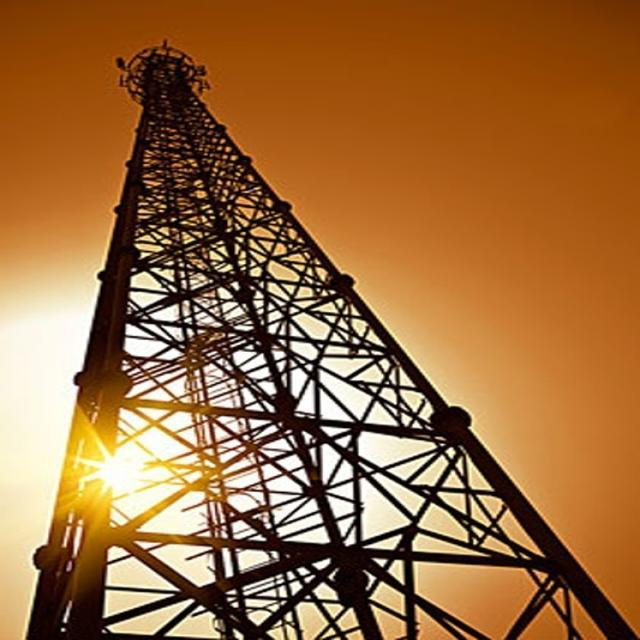non-critical vegetation: (44, 48, 622, 637)
